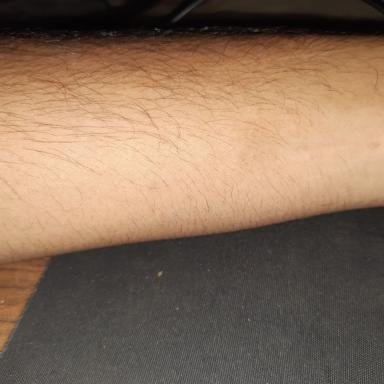normal skin: (1, 35, 383, 263)
